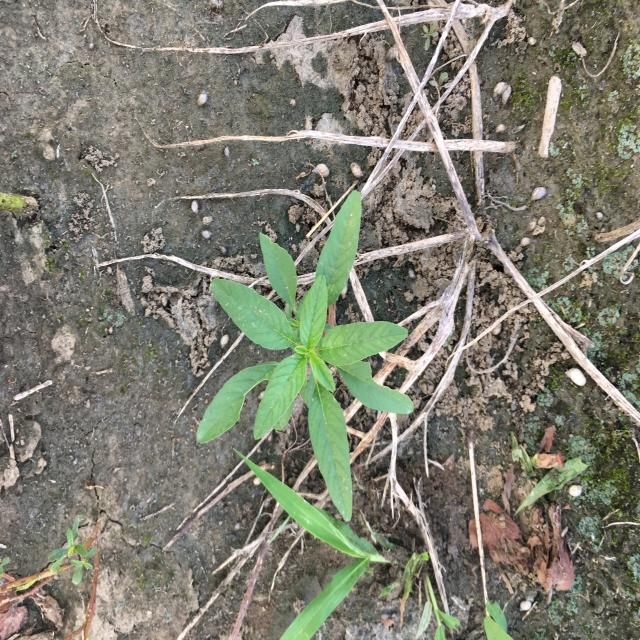Waterhemp: (194, 189, 417, 525)
